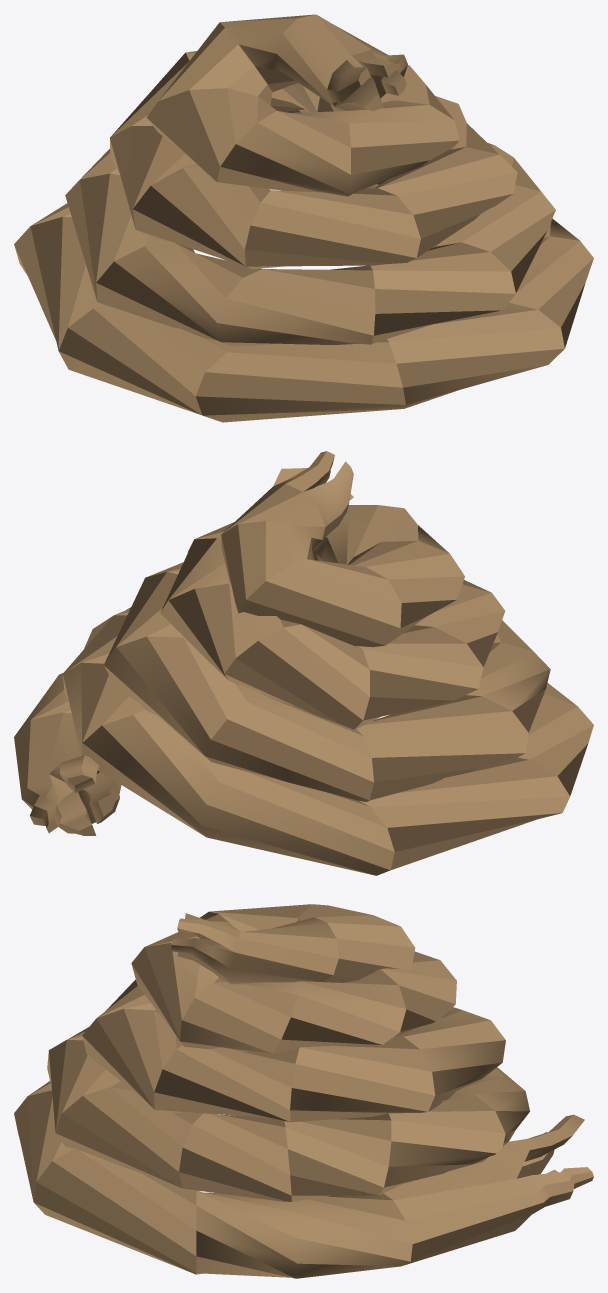
File: rope.fbx
The picture shows the model from 3 angles, top to bottom: view 1: azimuth 30°, elevation 25°; view 2: azimuth 150°, elevation 25°; view 3: azimuth 270°, elevation 25°; orthographic projection. The views are drawn at different scales.
Parts seen in each view (by area): view 1: rope; view 2: rope; view 3: rope.
Boxes of the visible parts, <box> form: rope: <box>14,14,593,422</box>; rope: <box>14,451,593,875</box>; rope: <box>14,904,593,1278</box>.
Bounding box in the file's own units: 815 × 443 × 848.
Materials: 1 (1 with a texture image).
